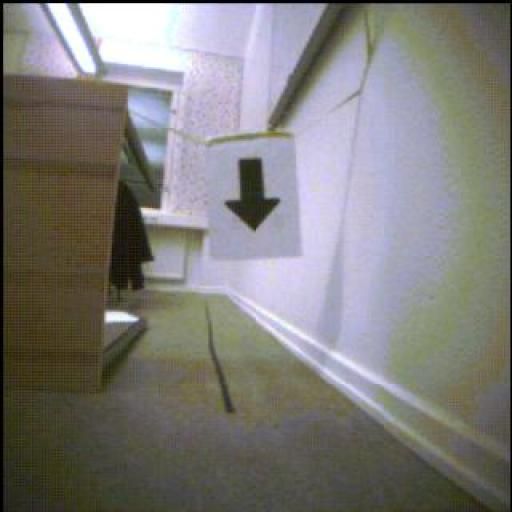Arrow: (227, 160, 281, 232)
